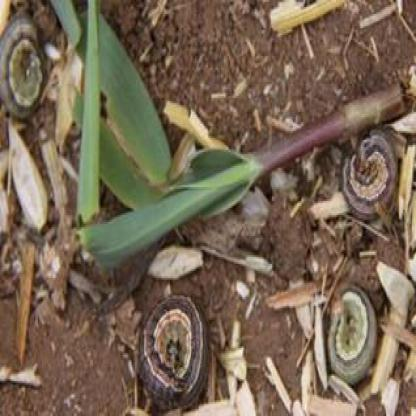armyworm: (135, 295, 212, 416), (0, 9, 54, 125), (327, 286, 382, 388), (340, 134, 400, 216)
